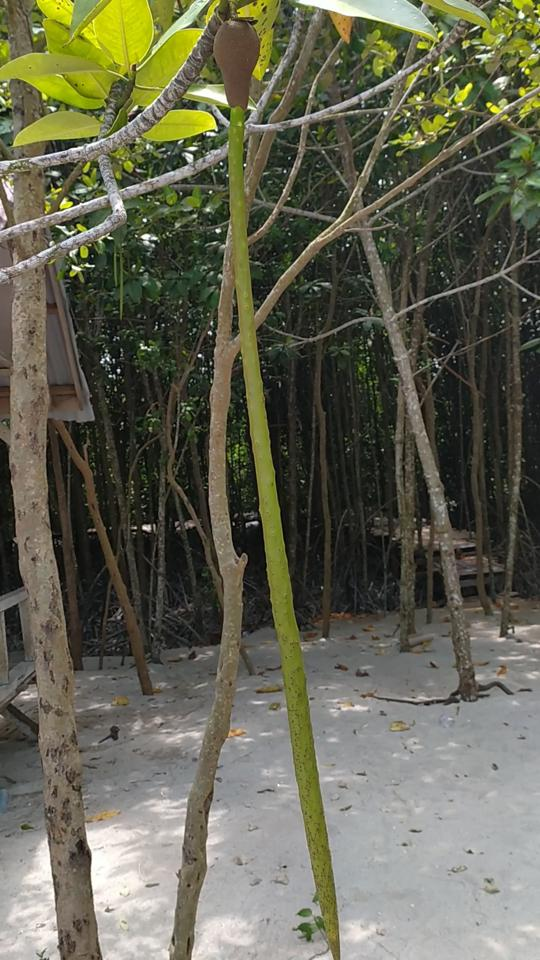mentah: (187, 7, 364, 959)
